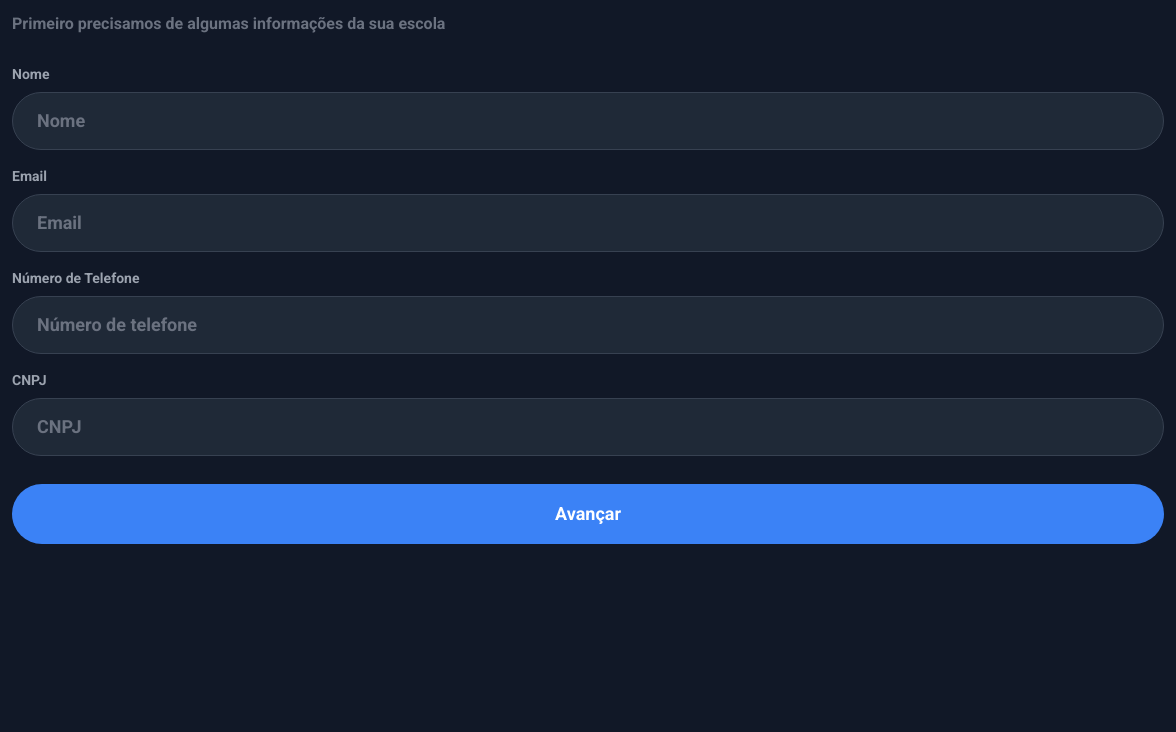
Test: FormSchool › Should be validation in fields if is empty
This screenshot has width=1176, height=732.
Click the button "Avançar" at {"x": 588, "y": 514}, box [555, 500, 621, 528]
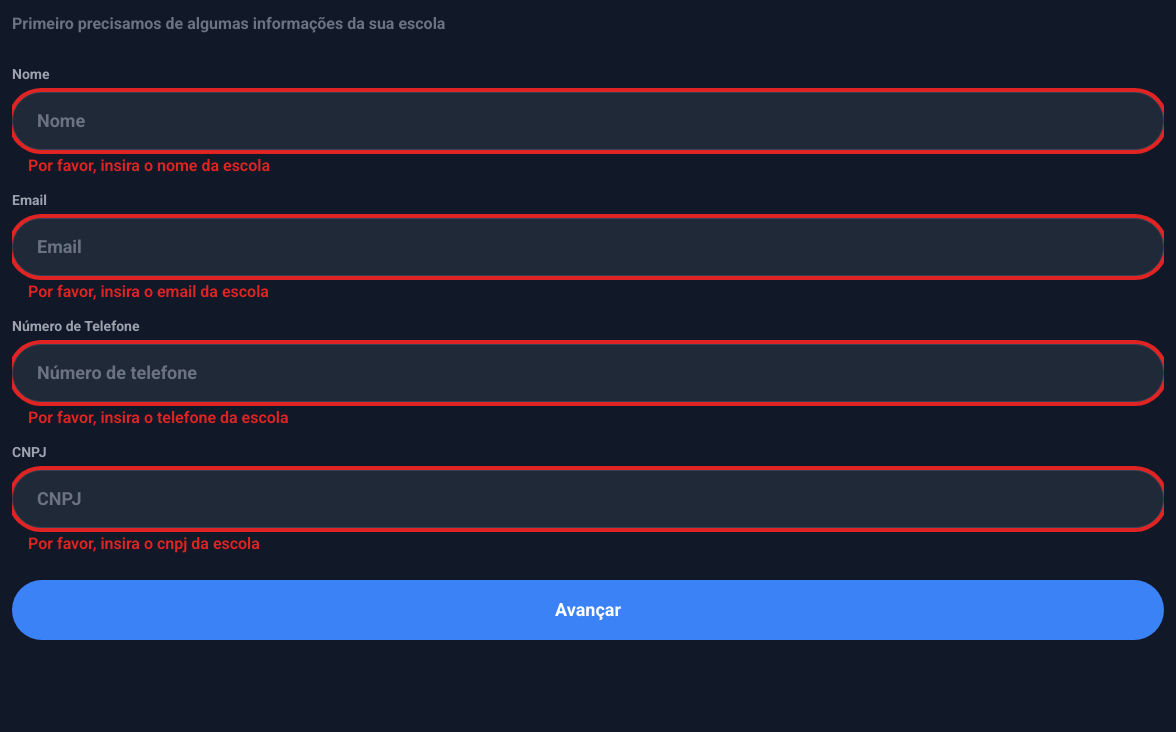
Expected: the text "Por favor, insira o nome da escola" is shown, [28, 156, 270, 175]
Expected: the text "Por favor, insira o email da escola" is shown, [28, 282, 269, 301]
Expected: the text "Por favor, insira o telefone da escola" is shown, [28, 408, 288, 427]
